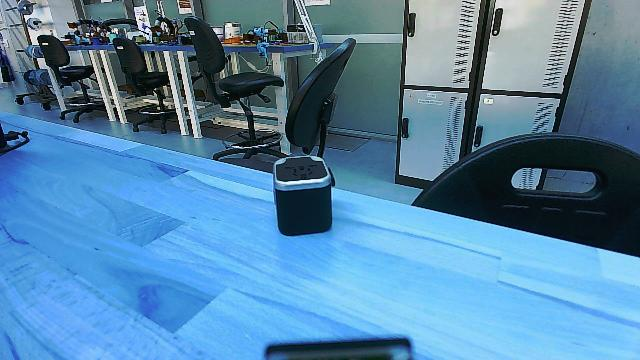adapter: (266, 153, 338, 235)
